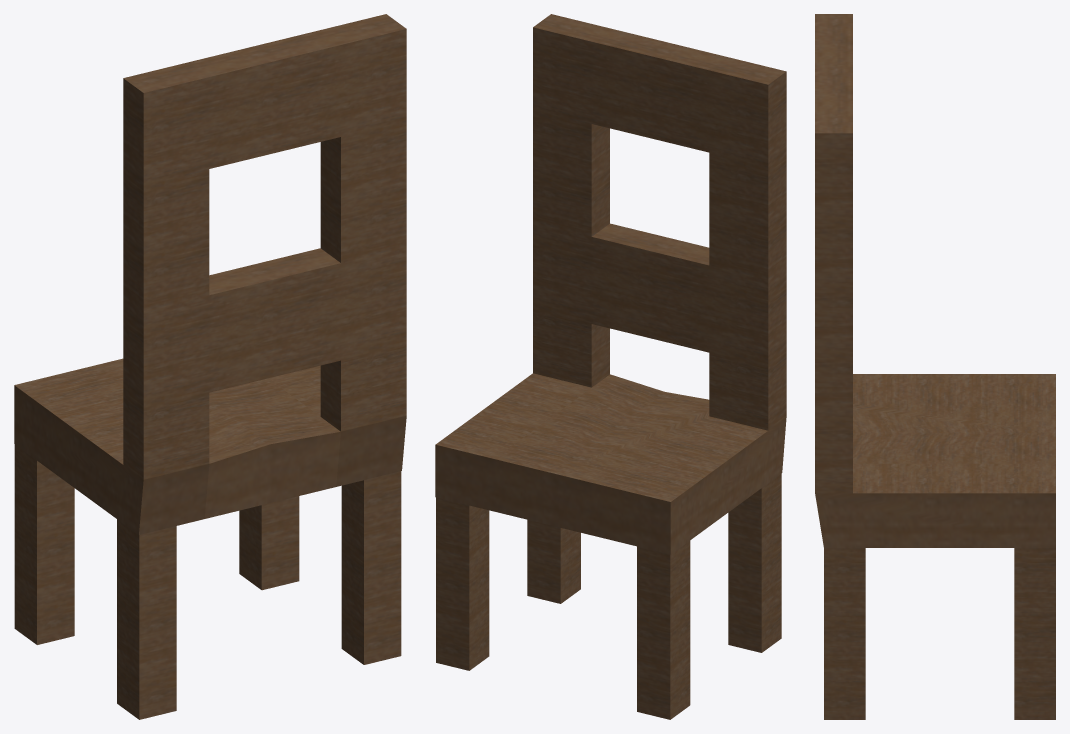
Rendered from Cadeira.fbx.
3 renders of one model, left to right at view 1: azimuth 30°, elevation 25°; view 2: azimuth 150°, elevation 25°; view 3: azimuth 270°, elevation 25°, orthographic. The views are drawn at different scales.
Parts seen in each view (by area): view 1: Cadeira; view 2: Cadeira; view 3: Cadeira.
Boxes of the visible parts, box(x1,y1,x2,y2) form: Cadeira: box(14, 14, 406, 719); Cadeira: box(435, 14, 786, 719); Cadeira: box(815, 14, 1055, 719).
Bounding box in the file's own units: 53.01 × 121 × 45.17.
1 material, 1 textured.
